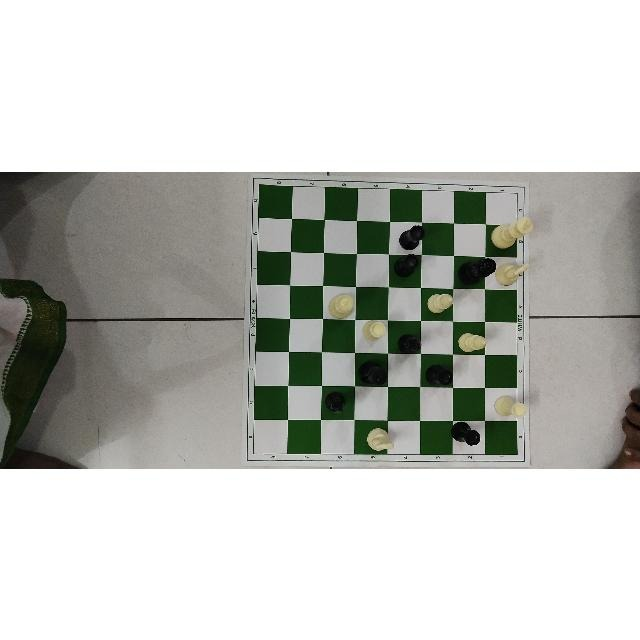black-bishop: (324, 389, 345, 414), (396, 332, 422, 352)
black-king: (358, 359, 388, 385)
black-queen: (456, 256, 498, 286)
black-rook: (450, 420, 481, 446), (425, 363, 453, 386), (401, 223, 425, 249), (394, 252, 419, 276)
white-bishop: (458, 332, 487, 352), (427, 293, 454, 313)
white-king: (491, 215, 533, 248)
white-knight: (496, 261, 530, 287), (366, 426, 395, 450)
white-queen: (328, 292, 353, 318)
white-rook: (494, 394, 528, 418), (361, 319, 386, 340)
